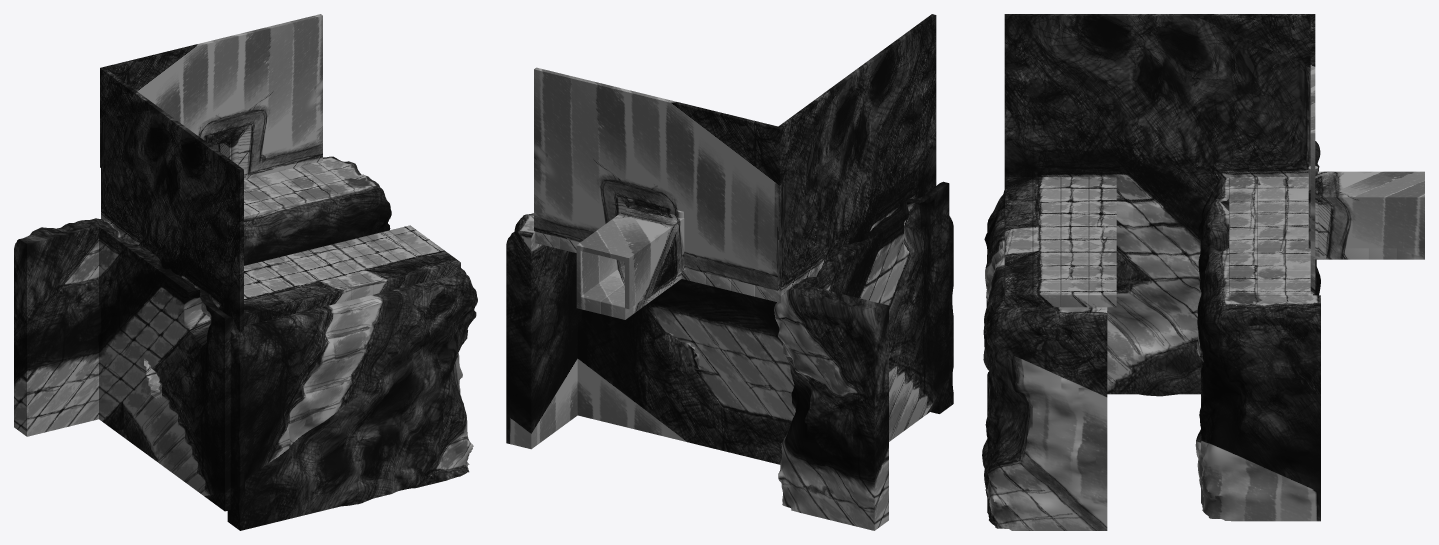
The model's file is DemoMap3.fbx.
3 renders of one model, left to right at view 1: azimuth 30°, elevation 25°; view 2: azimuth 150°, elevation 25°; view 3: azimuth 270°, elevation 25°, orthographic. The views are drawn at different scales.
Visible parts, largest first — view 1: Cube.021, Cube.020, Cube, Cube.019, Cube.005, Cube.012, Cube.007, Cube.008; view 2: Cube.012, Cube.020, Cube.019, Cube, Cube.013, Cube.008, Cube.016, Cube.018, Cube.001, Cube.007, Cube.017, Cube.021; view 3: Cube, Cube.012, Cube.021, Cube.020, Cube.005, Cube.007, Cube.017, Cube.018, Cube.019, Cube.001.
Part boxes in pixels (bbox=[...]): Cube.021: bbox=[227, 268, 477, 530]; Cube.020: bbox=[14, 218, 236, 511]; Cube: bbox=[101, 68, 243, 332]; Cube.019: bbox=[100, 14, 322, 168]; Cube.005: bbox=[242, 225, 460, 326]; Cube.012: bbox=[244, 156, 391, 265]; Cube.007: bbox=[244, 161, 359, 227]; Cube.008: bbox=[238, 115, 322, 179]; Cube.012: bbox=[506, 213, 794, 464]; Cube.020: bbox=[774, 181, 949, 530]; Cube.019: bbox=[534, 67, 782, 239]; Cube: bbox=[777, 14, 936, 304]; Cube.013: bbox=[684, 217, 779, 290]; Cube.008: bbox=[534, 180, 627, 242]; Cube.016: bbox=[625, 218, 684, 309]; Cube.018: bbox=[580, 205, 677, 261]; Cube.001: bbox=[576, 264, 681, 319]; Cube.007: bbox=[535, 231, 778, 302]; Cube.017: bbox=[576, 205, 636, 297]; Cube.021: bbox=[637, 205, 953, 413]; Cube: bbox=[1004, 14, 1310, 203]; Cube.012: bbox=[1195, 178, 1320, 521]; Cube.021: bbox=[982, 190, 1107, 530]; Cube.020: bbox=[1107, 141, 1320, 396]; Cube.005: bbox=[1004, 177, 1116, 307]; Cube.007: bbox=[1229, 177, 1312, 295]; Cube.017: bbox=[1318, 195, 1424, 248]; Cube.018: bbox=[1315, 174, 1424, 195]; Cube.019: bbox=[1310, 14, 1315, 243]; Cube.001: bbox=[1315, 248, 1424, 259].
Bounding box in the file's own units: 3035 × 3091 × 3160.
